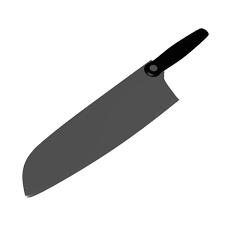Knife: (21, 27, 209, 197)
